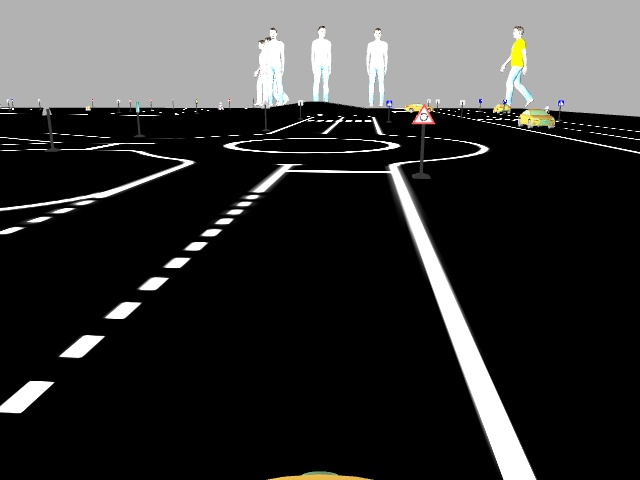Roundabout: (412, 104, 435, 127)
